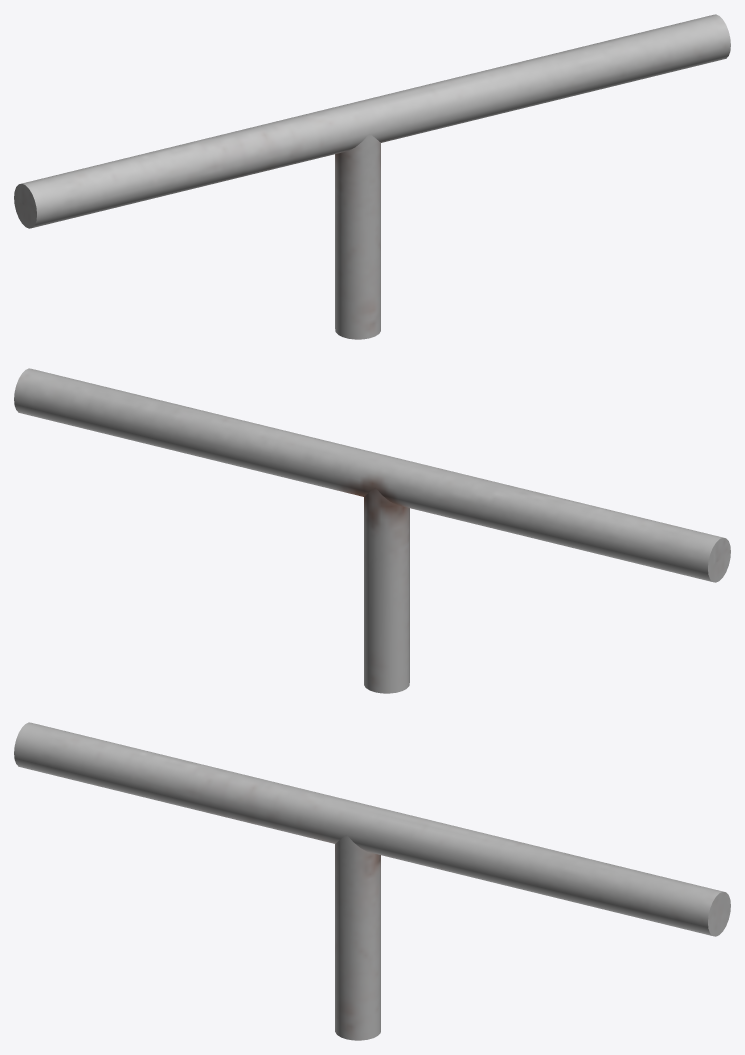
File: SM_Access_Gate_01_Bolt.FBX
3 renders of one model, top to bottom at view 1: azimuth 30°, elevation 25°; view 2: azimuth 150°, elevation 25°; view 3: azimuth 330°, elevation 25°, orthographic.
Visible parts, largest first — view 1: SM_Access_Gate_01_Bolt; view 2: SM_Access_Gate_01_Bolt; view 3: SM_Access_Gate_01_Bolt.
Part boxes in pixels (x1,y1,x2,y2): SM_Access_Gate_01_Bolt: (14, 14, 730, 339); SM_Access_Gate_01_Bolt: (14, 368, 730, 693); SM_Access_Gate_01_Bolt: (14, 722, 730, 1040).
Bounding box in the file's own units: 52 × 3 × 16.17.
